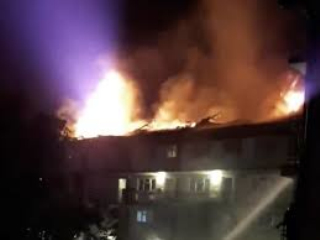smoke: (141, 12, 272, 124)
